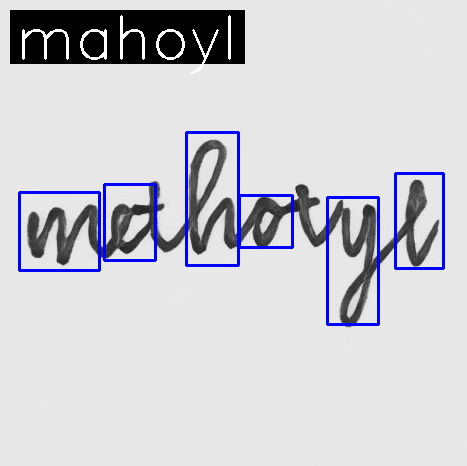e: (104, 201, 136, 258)
h: (184, 138, 241, 256)
l: (402, 176, 441, 268)
m: (23, 201, 102, 268)
o: (248, 192, 284, 252)
t: (137, 178, 177, 256)
x: (285, 183, 324, 249)
y: (335, 201, 380, 330)
